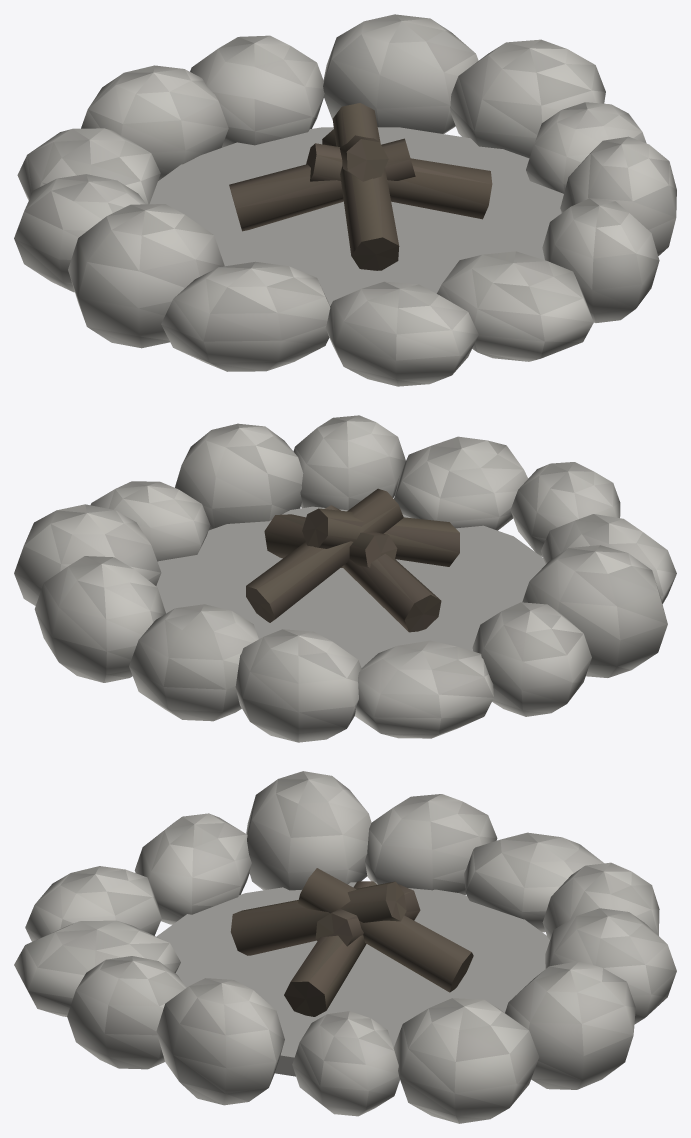
The model's file is camp_fire_ring_a_cold.glb.
The picture shows the model from 3 angles, top to bottom: view 1: azimuth 30°, elevation 25°; view 2: azimuth 150°, elevation 25°; view 3: azimuth 270°, elevation 25°; orthographic projection. The views are drawn at different scales.
Parts seen in each view (by area): view 1: body; view 2: body; view 3: body.
Boxes of the visible parts, x1,y1,x2,y2 form: body: (14,14,676,386); body: (14,415,676,742); body: (14,771,676,1123).
Bounding box in the file's own units: 1.12 × 0.253 × 1.11.
